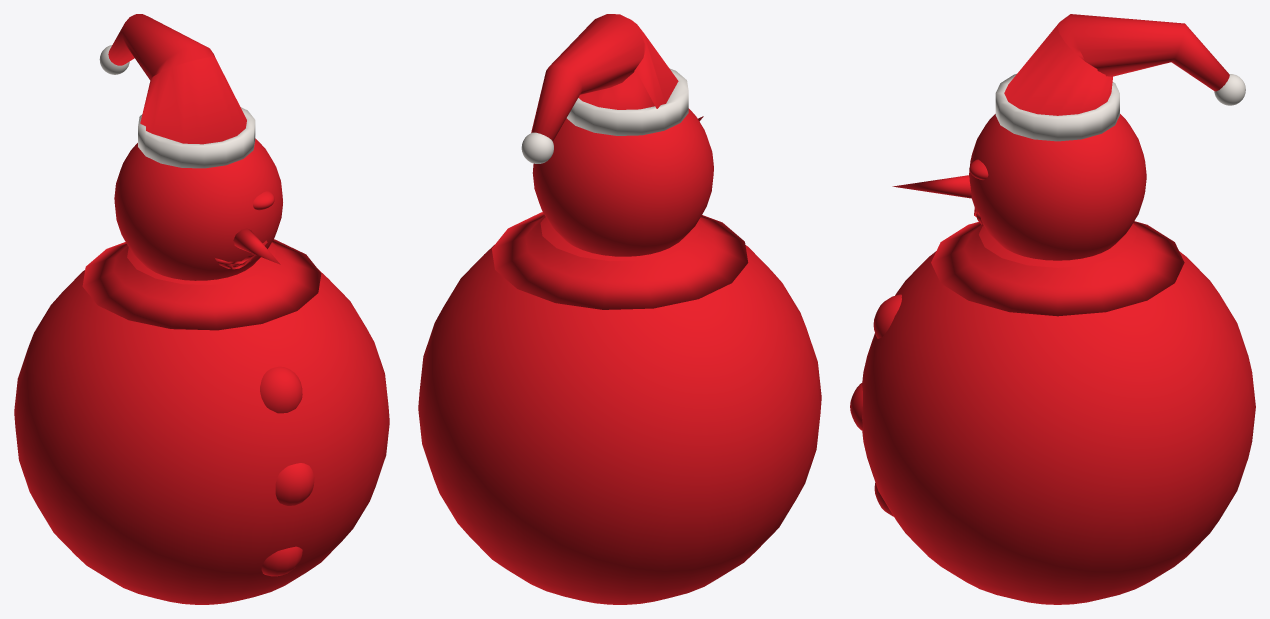
Rendered from red.glb.
The picture shows the model from 3 angles, left to right: view 1: azimuth 30°, elevation 25°; view 2: azimuth 150°, elevation 25°; view 3: azimuth 270°, elevation 25°; orthographic projection. The views are drawn at different scales.
Parts seen in each view (by area): view 1: snowman; view 2: snowman; view 3: snowman.
Boxes of the visible parts, box(x1,y1,x2,y2) form: snowman: box(14, 14, 389, 604); snowman: box(418, 14, 821, 604); snowman: box(850, 14, 1255, 604).
Size of the model in its own units: 2 by 3.15 by 2.05.
